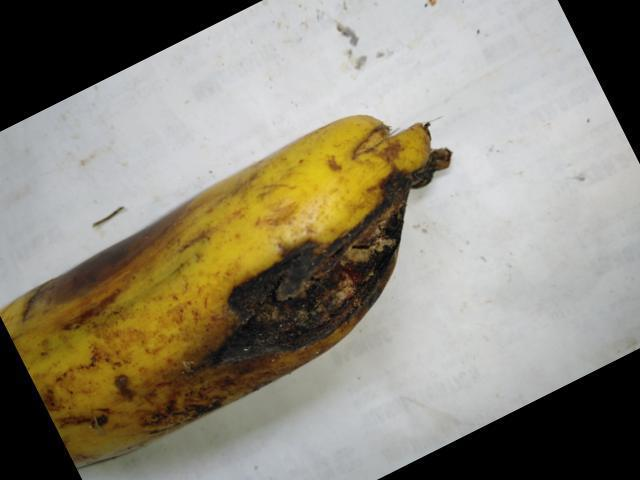ripe: (0, 82, 457, 479)
rotten: (206, 102, 455, 391), (8, 191, 183, 321)
